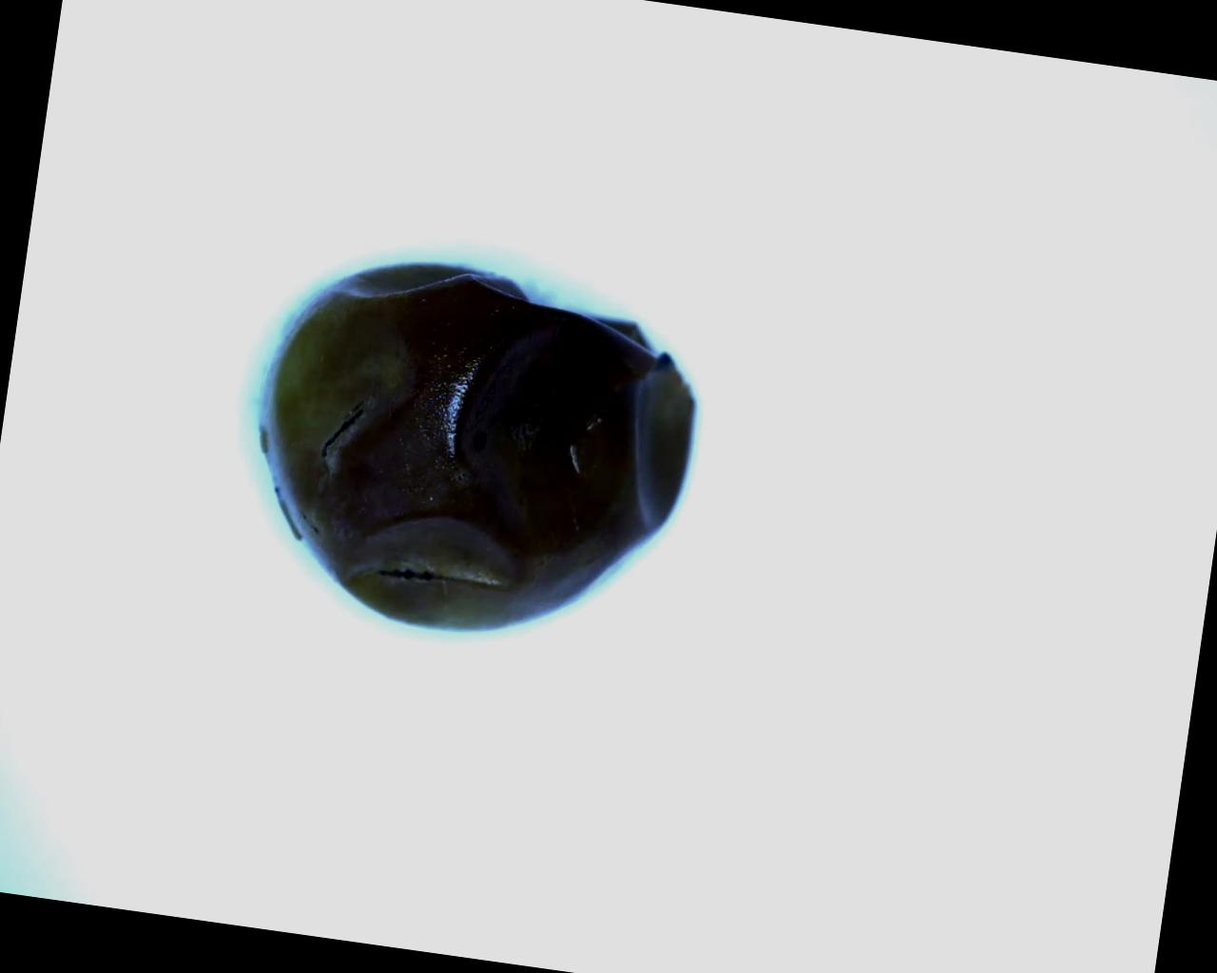Grape Rotten: (230, 237, 715, 662)
